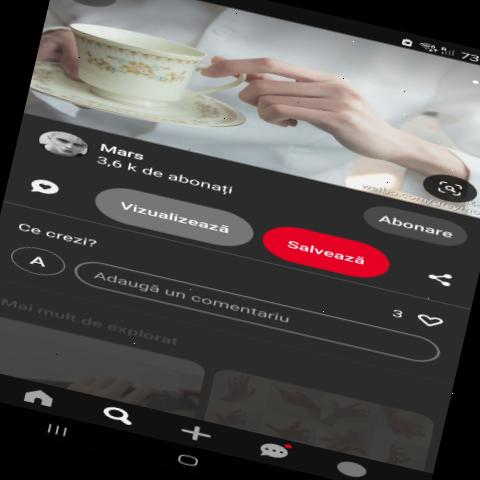hands: (173, 16, 480, 206)
